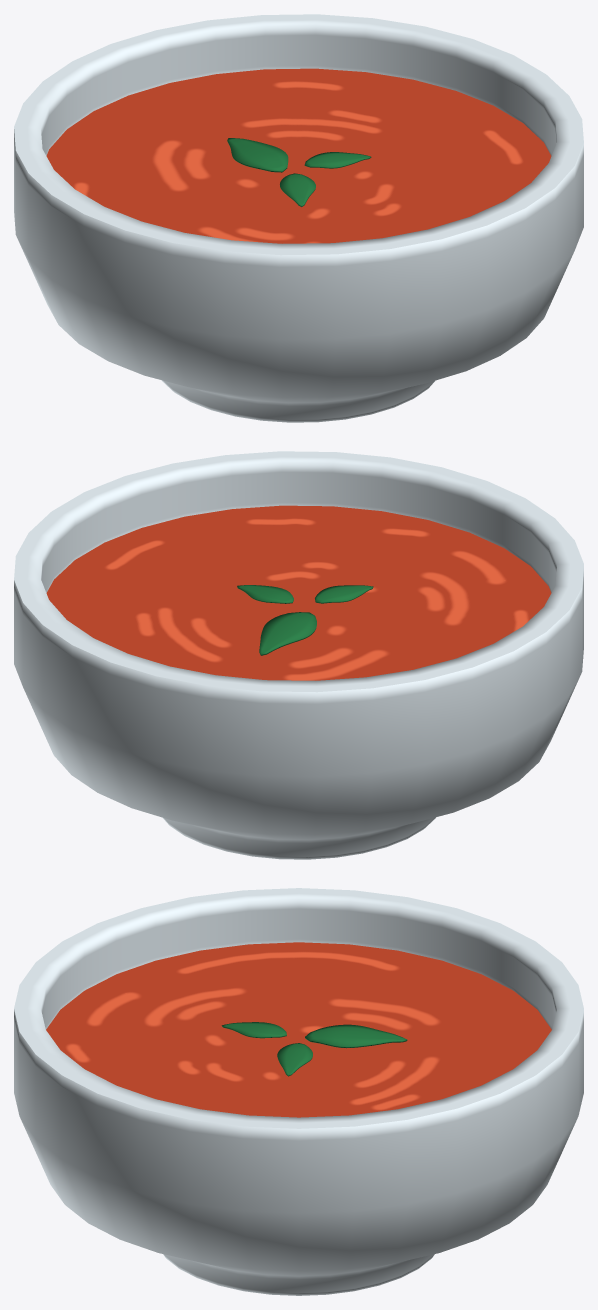
File: Tomato Soup.fbx
3 renders of one model, top to bottom at view 1: azimuth 30°, elevation 25°; view 2: azimuth 150°, elevation 25°; view 3: azimuth 270°, elevation 25°, orthographic.
Parts seen in each view (by area): view 1: Bowl, Soup, leaf, leaf.002, leaf.001; view 2: Bowl, Soup, leaf, leaf.002, leaf.001; view 3: Bowl, Soup, leaf, leaf.001, leaf.002.
Boxes of the visible parts, x1=… form: Bowl: x1=14, y1=14, x2=583, y2=422; Soup: x1=46, y1=68, x2=551, y2=243; leaf: x1=227, y1=138, x2=288, y2=172; leaf.002: x1=280, y1=173, x2=315, y2=206; leaf.001: x1=304, y1=152, x2=371, y2=168; Bowl: x1=14, y1=451, x2=583, y2=859; Soup: x1=46, y1=505, x2=551, y2=680; leaf: x1=259, y1=612, x2=316, y2=655; leaf.002: x1=315, y1=585, x2=373, y2=603; leaf.001: x1=237, y1=585, x2=293, y2=603; Bowl: x1=14, y1=888, x2=583, y2=1295; Soup: x1=46, y1=942, x2=551, y2=1117; leaf: x1=305, y1=1024, x2=407, y2=1048; leaf.001: x1=277, y1=1043, x2=312, y2=1076; leaf.002: x1=221, y1=1022, x2=286, y2=1038.
Bounding box in the file's own units: 66.75 × 29.28 × 66.75.
Materials: 5 (5 with a texture image).
